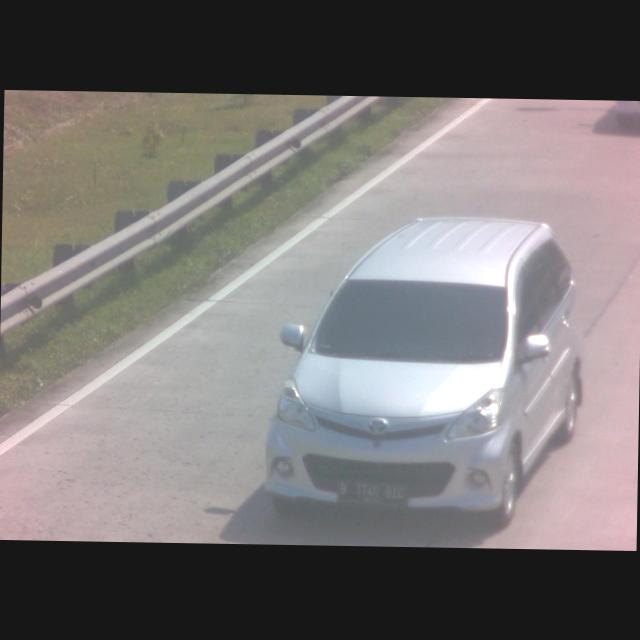plate: (337, 478, 407, 506)
